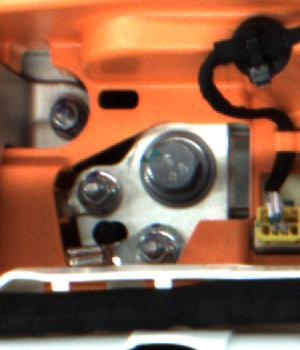nut_b: (132, 118, 221, 208)
